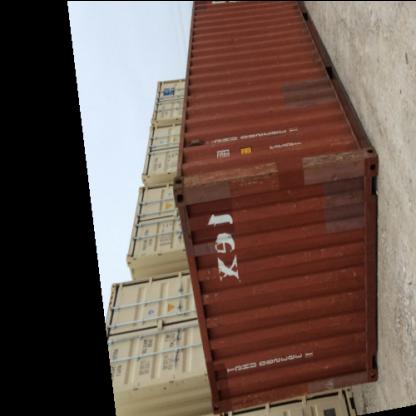Damage: (296, 146, 366, 184), (224, 152, 278, 200), (180, 162, 223, 206), (337, 260, 363, 284), (200, 290, 224, 310), (283, 190, 302, 214), (199, 262, 214, 284)
